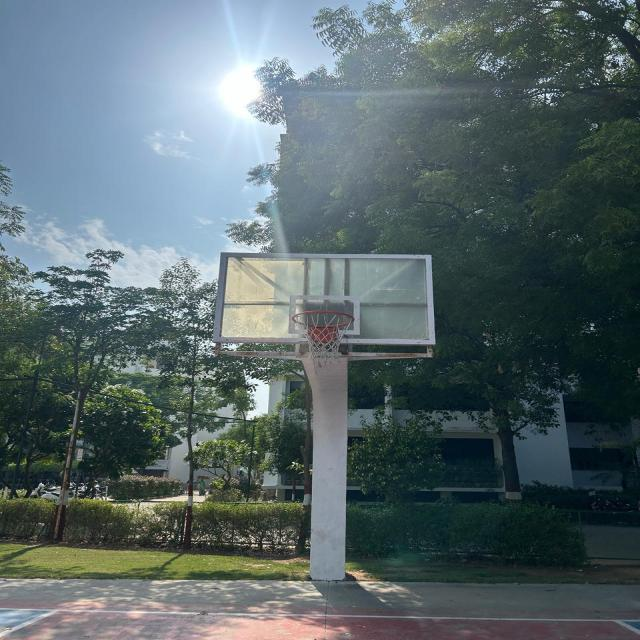hoop: (282, 307, 364, 390)
